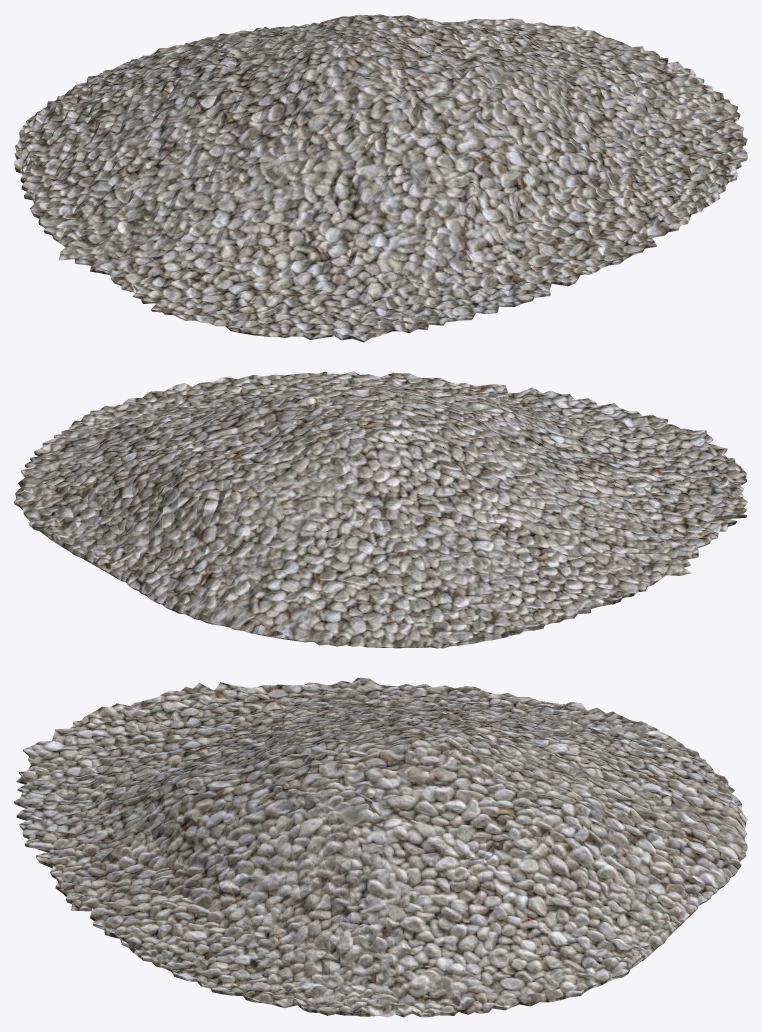
Rendered from tasDeGravillons.obj.
The picture shows the model from 3 angles, top to bottom: view 1: azimuth 30°, elevation 25°; view 2: azimuth 150°, elevation 25°; view 3: azimuth 270°, elevation 25°; orthographic projection. The views are drawn at different scales.
Visible parts, largest first — view 1: Plane; view 2: Plane; view 3: Plane.
Part boxes in pixels (bbox=[...]): Plane: bbox=[14, 14, 747, 342]; Plane: bbox=[14, 371, 747, 648]; Plane: bbox=[14, 677, 747, 1017].
Size of the model in its own units: 97.99 by 14.8 by 89.4.
